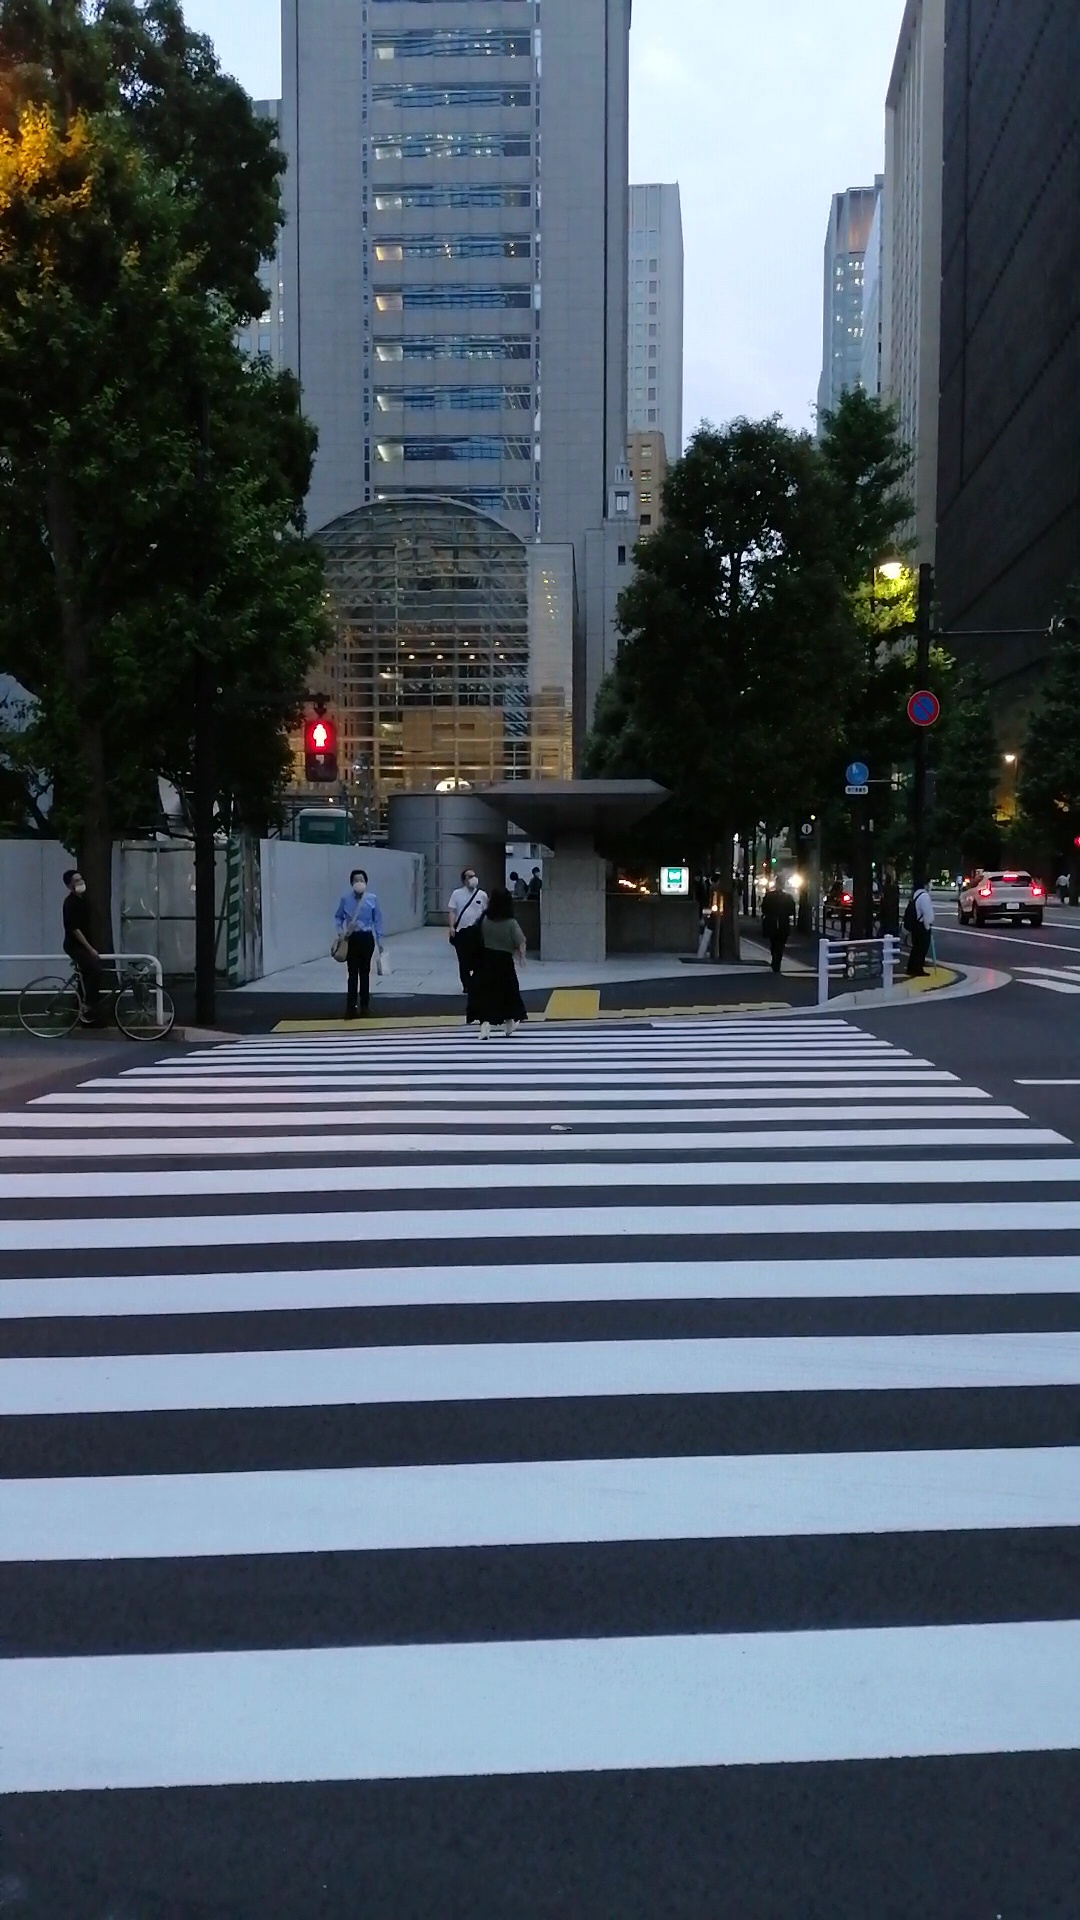red: (302, 717, 339, 781)
